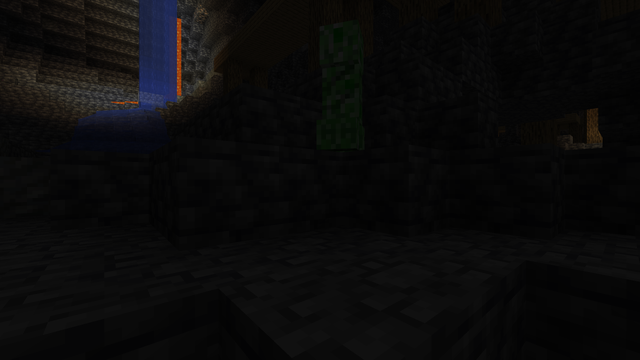creepers: (311, 7, 373, 154)
